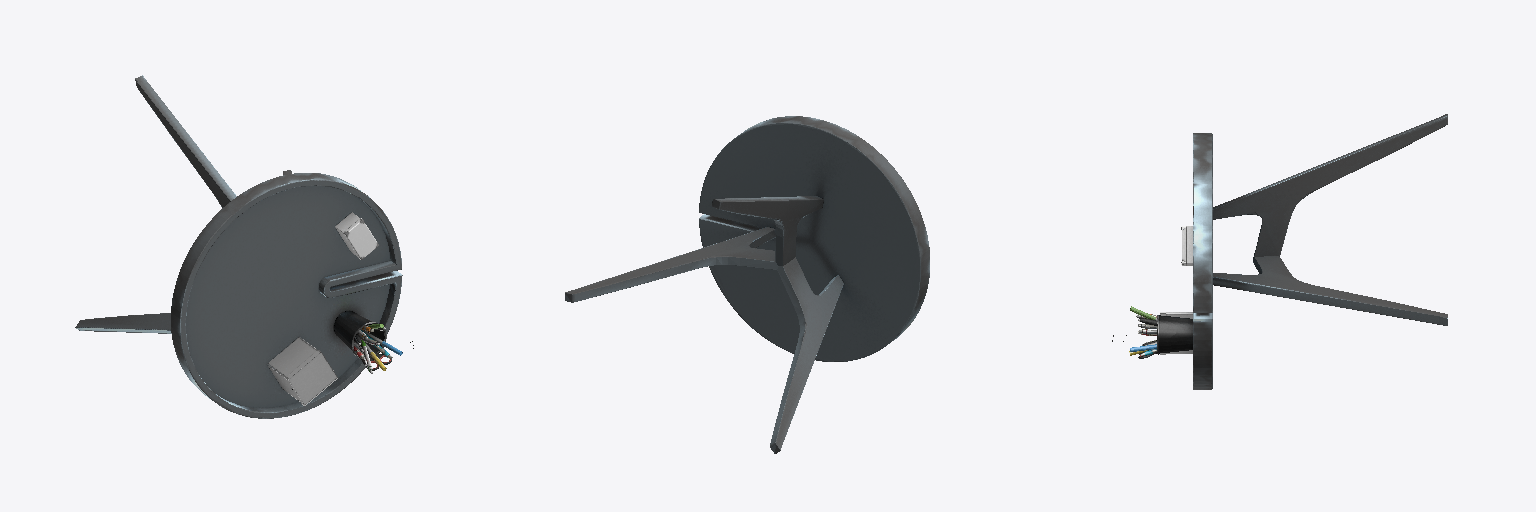
The picture shows the model from 3 angles: view 1: azimuth 30°, elevation 25°; view 2: azimuth 150°, elevation 25°; view 3: azimuth 270°, elevation 25°; orthographic projection.
Size of the model in its own units: 0.65 by 0.6571 by 0.7946.
1 materials, 1 textured.